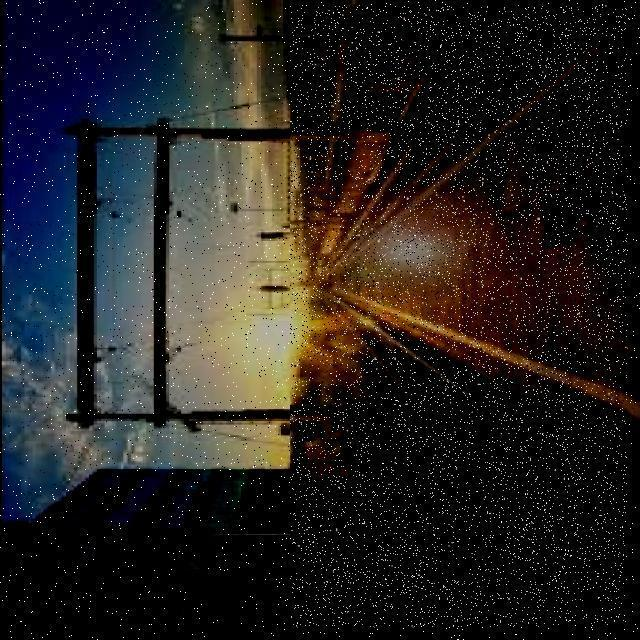rail: (290, 5, 627, 627)
